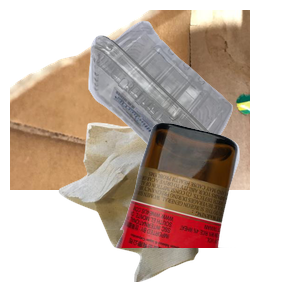cardboard: (10, 10, 250, 190)
glass: (113, 120, 300, 300)
plastic: (86, 18, 300, 171)
trash: (56, 120, 247, 300)
